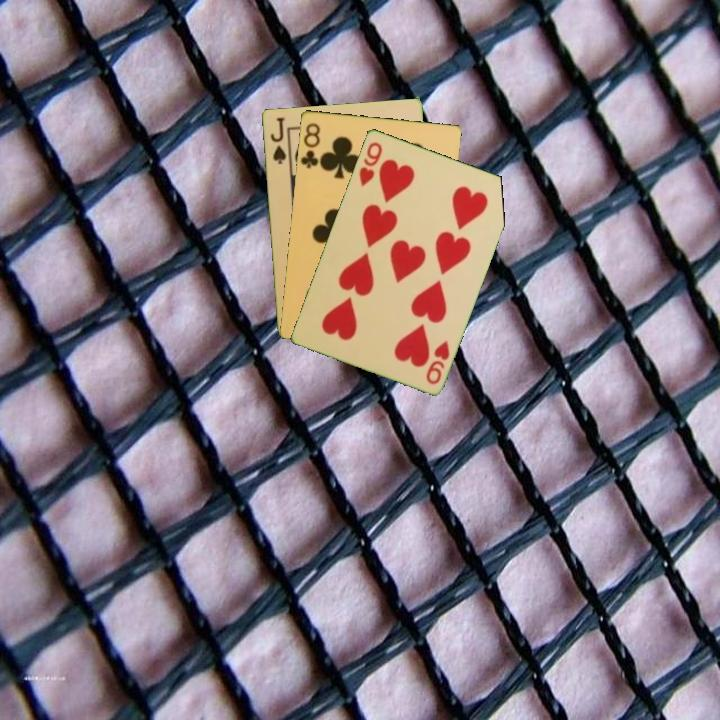8c: (297, 119, 323, 171)
9h: (355, 138, 385, 189), (422, 336, 452, 387)
Js: (267, 113, 289, 166)
